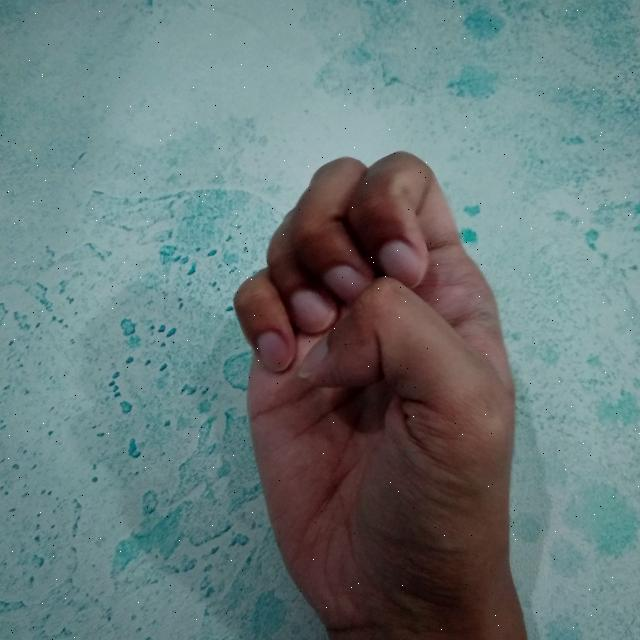E: (243, 148, 531, 640)
